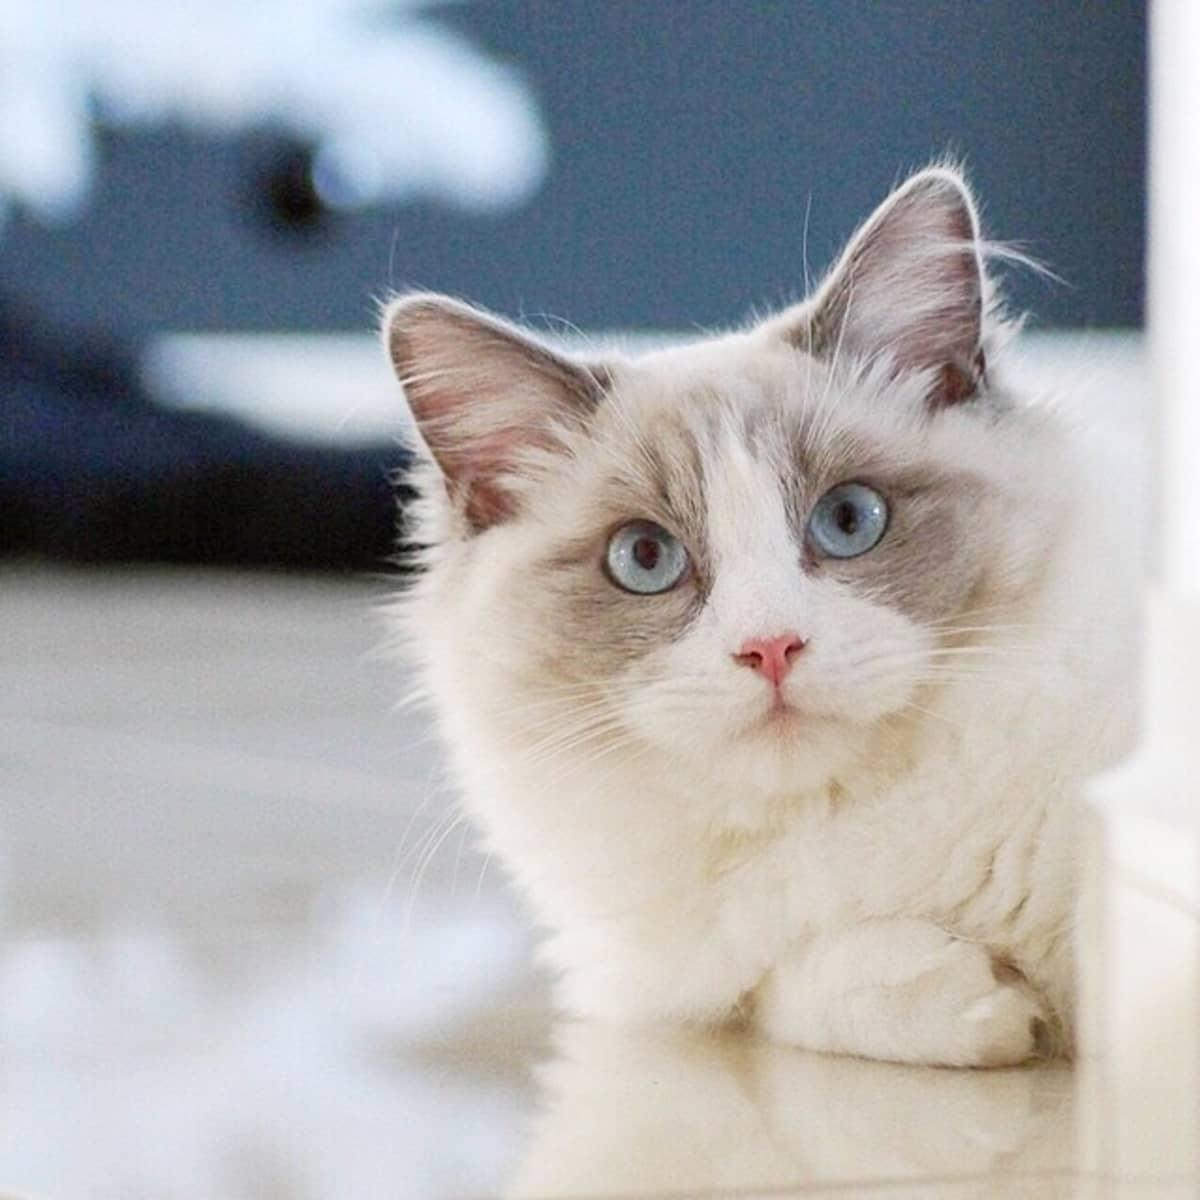ragdoll: (379, 151, 1044, 805)
